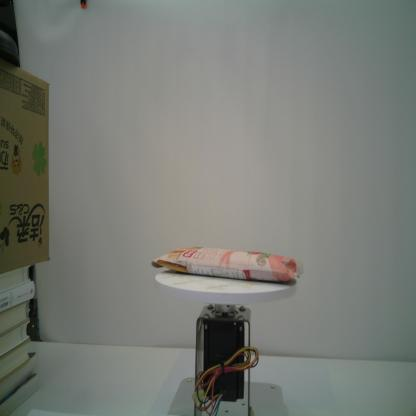Dessert: (152, 244, 306, 287)
